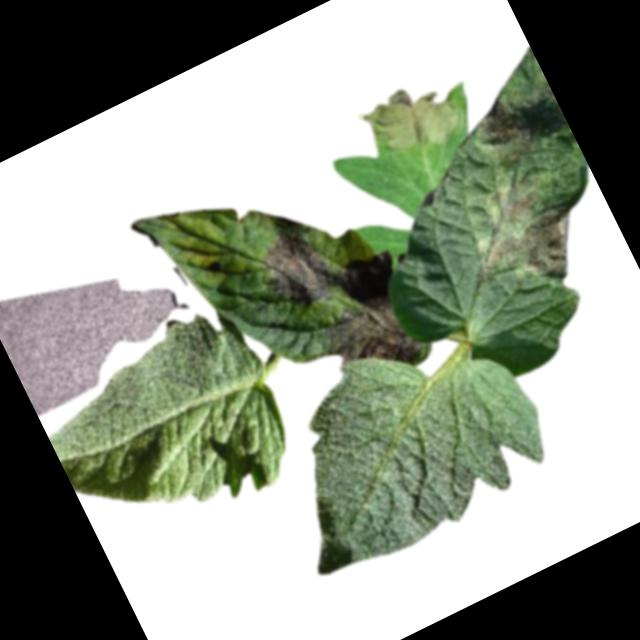Late_blight: (256, 196, 405, 336), (472, 201, 596, 308), (351, 68, 469, 173), (318, 290, 425, 392), (457, 89, 542, 177), (477, 170, 551, 235)
